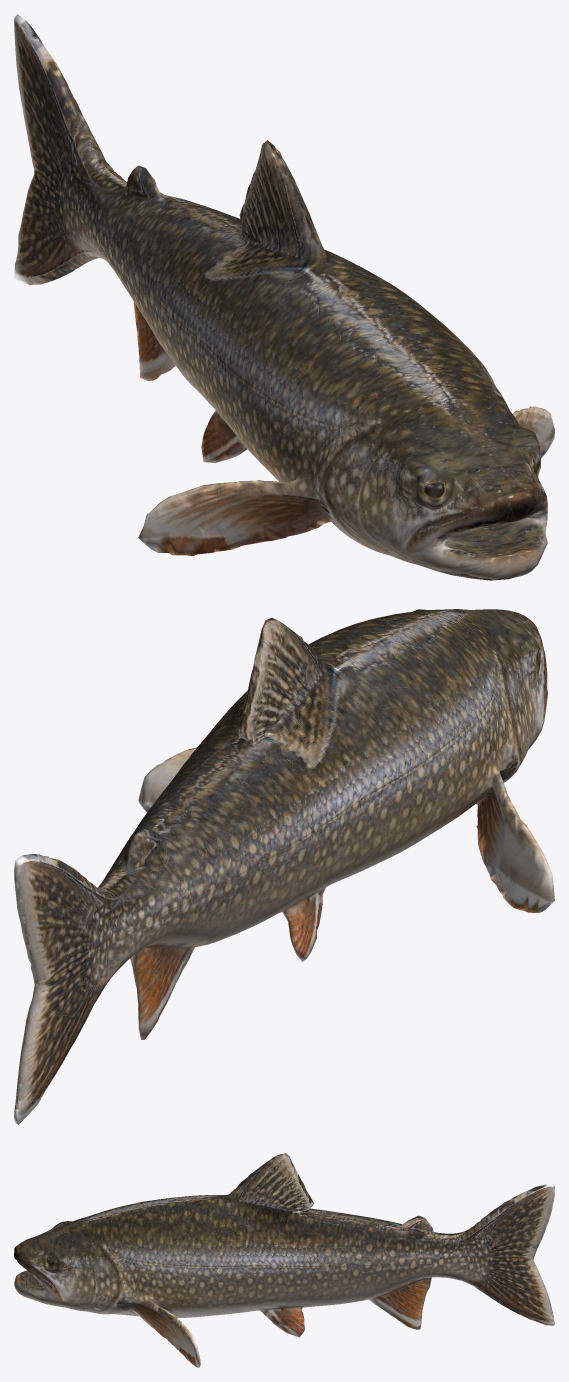
Rendered from fish_laketrout.glb.
The picture shows the model from 3 angles, top to bottom: view 1: azimuth 30°, elevation 25°; view 2: azimuth 150°, elevation 25°; view 3: azimuth 270°, elevation 25°; orthographic projection. The views are drawn at different scales.
Parts seen in each view (by area): view 1: geometry_0; view 2: geometry_0; view 3: geometry_0.
Boxes of the visible parts, x1,y1,x2,y2 form: geometry_0: (14, 14, 554, 580); geometry_0: (14, 609, 554, 1124); geometry_0: (14, 1153, 554, 1367).
Size of the model in its own units: 0.9344 by 0.7038 by 1.96.
Materials: 1 (1 with a texture image).
